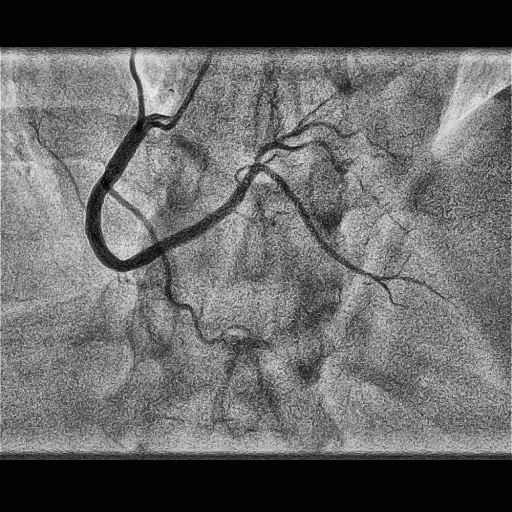pborca: (254, 139, 342, 173)
pda: (260, 163, 459, 309)
rca: (85, 114, 260, 272)
